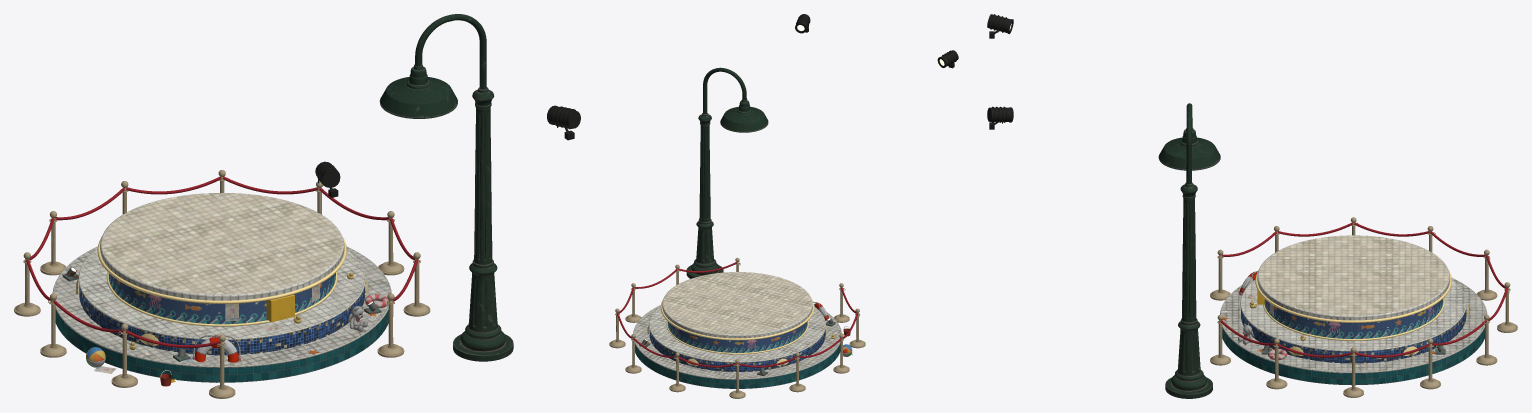
Rendered from sala_monumento.glb.
3 renders of one model, left to right at view 1: azimuth 30°, elevation 25°; view 2: azimuth 150°, elevation 25°; view 3: azimuth 270°, elevation 25°, orthographic. The views are drawn at different scales.
Visible parts, largest first — view 1: amb_piedistallo, amb_lampione, sala_monumento_cordone, sala_monumento_fari, sala_monumento_offerte, ogg_salvagente_nave_36, sala_monumento_colonnina_0, sala_monumento_colonnina_1, sala_monumento_colonnina_10, sala_monumento_colonnina_9, sala_monumento_colonnina_8, sala_monumento_colonnina_7 (+2 smaller); view 2: amb_piedistallo, amb_lampione, sala_monumento_cordone, sala_monumento_fari; view 3: amb_piedistallo, amb_lampione, sala_monumento_cordone, sala_monumento_fari.
Part boxes in pixels (x1,y1,x2,y2): amb_piedistallo: [52, 193, 391, 382]; amb_lampione: [379, 14, 513, 361]; sala_monumento_cordone: [25, 176, 418, 347]; sala_monumento_fari: [315, 105, 580, 197]; sala_monumento_offerte: [94, 284, 381, 386]; ogg_salvagente_nave_36: [192, 335, 240, 382]; sala_monumento_colonnina_0: [377, 293, 404, 357]; sala_monumento_colonnina_1: [403, 252, 430, 316]; sala_monumento_colonnina_10: [209, 334, 235, 398]; sala_monumento_colonnina_9: [111, 323, 137, 387]; sala_monumento_colonnina_8: [40, 293, 66, 357]; sala_monumento_colonnina_7: [14, 252, 40, 316]; amb_piedistallo: [633, 272, 841, 388]; amb_lampione: [686, 67, 768, 278]; sala_monumento_cordone: [616, 262, 858, 367]; sala_monumento_fari: [795, 14, 958, 68]; amb_piedistallo: [1220, 235, 1487, 385]; amb_lampione: [1158, 103, 1220, 398]; sala_monumento_cordone: [1219, 222, 1508, 357]; sala_monumento_fari: [987, 14, 1013, 129].
Size of what is drawn, in the model's own units: 6.46 by 5.87 by 10.36.
23 materials, 19 textured.
